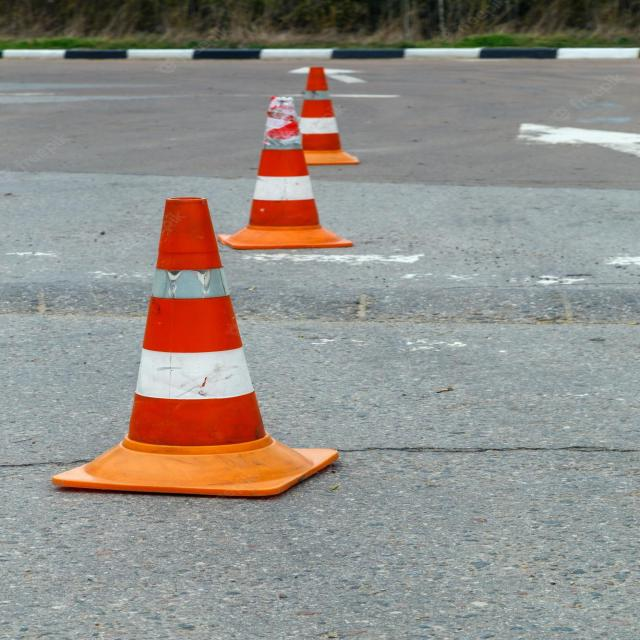cone: (46, 186, 341, 502), (205, 96, 362, 262), (289, 64, 373, 168)
